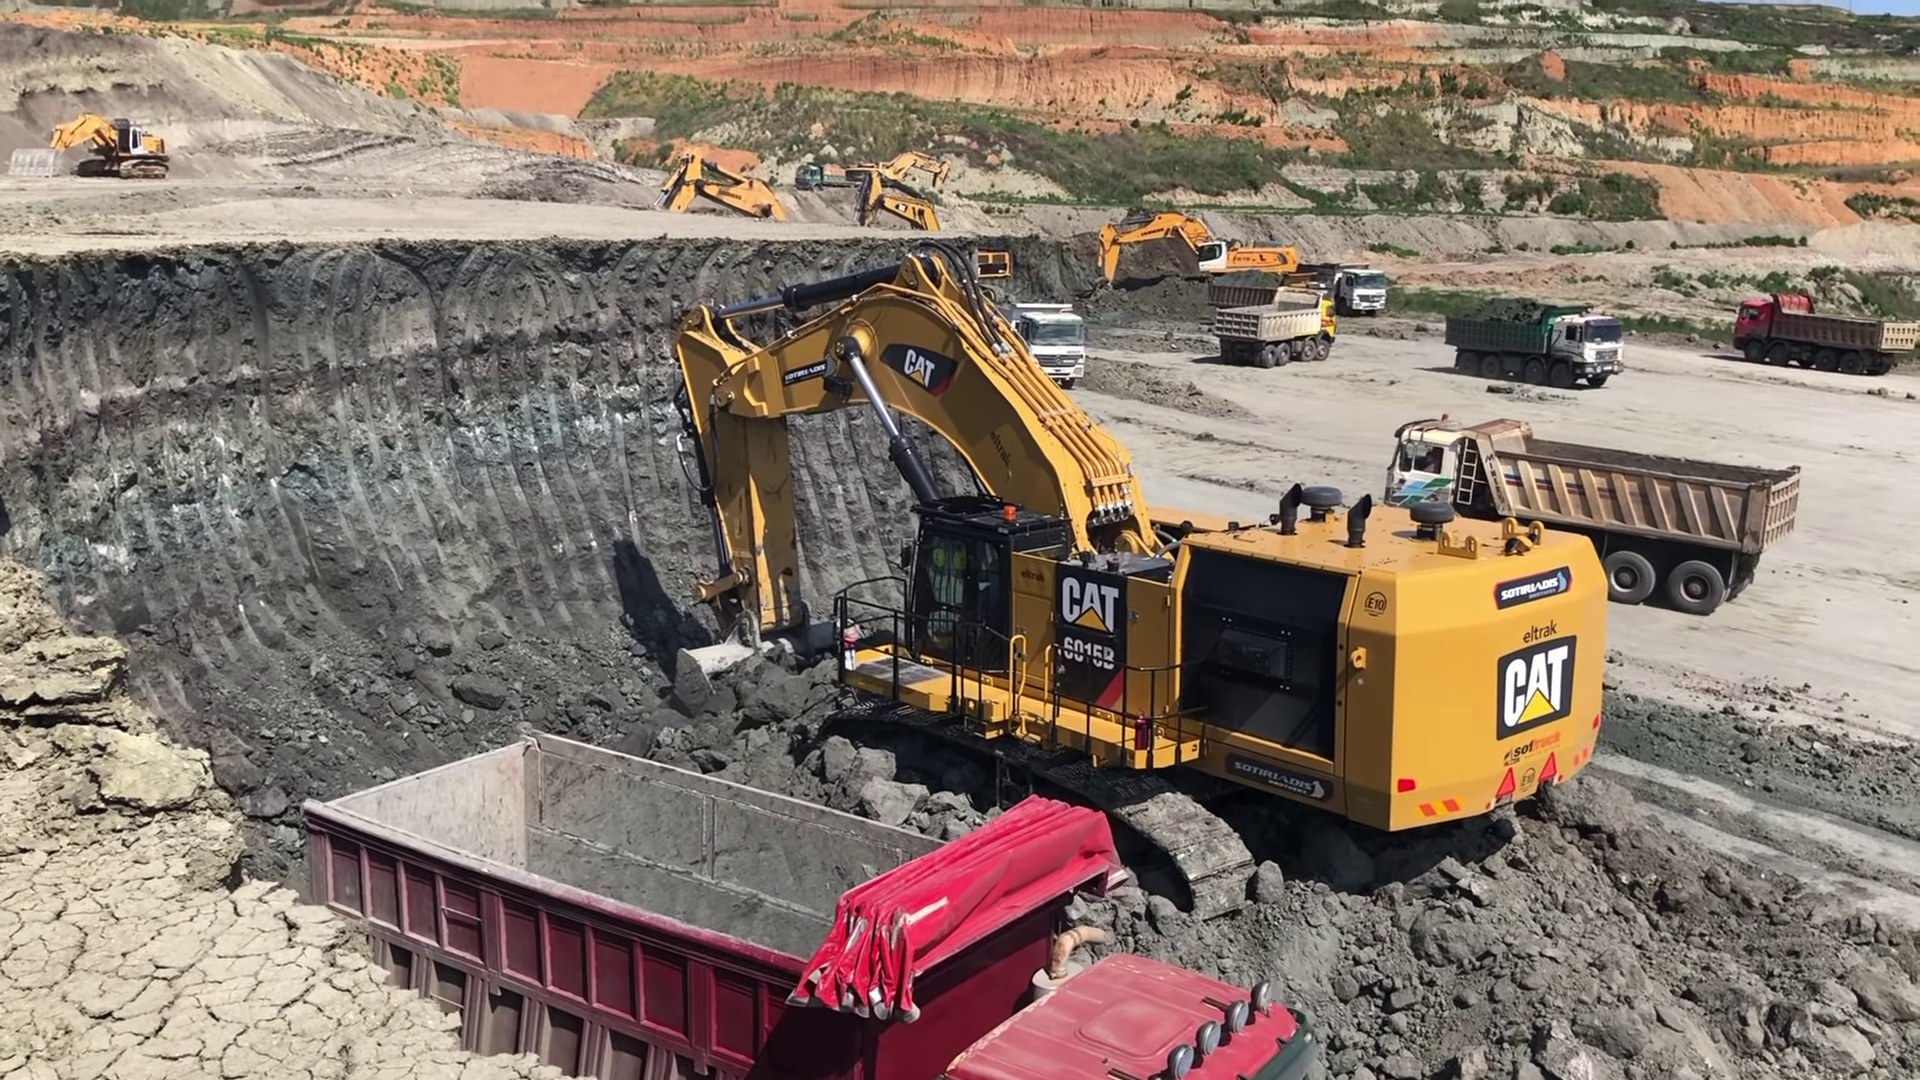excavator: (665, 243, 1611, 856), (659, 152, 818, 269), (1087, 211, 1298, 297), (860, 182, 1019, 281), (11, 111, 167, 179), (804, 142, 957, 187)
truck: (303, 720, 1316, 1080), (1396, 418, 1803, 608), (1443, 290, 1615, 396), (1737, 294, 1920, 372), (1211, 287, 1333, 372), (980, 291, 1085, 385), (1298, 264, 1387, 315)
